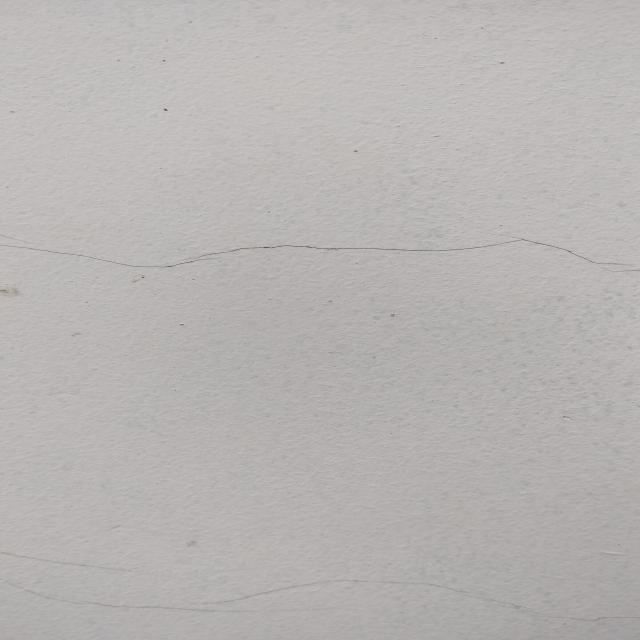Crack: (3, 229, 640, 275)
